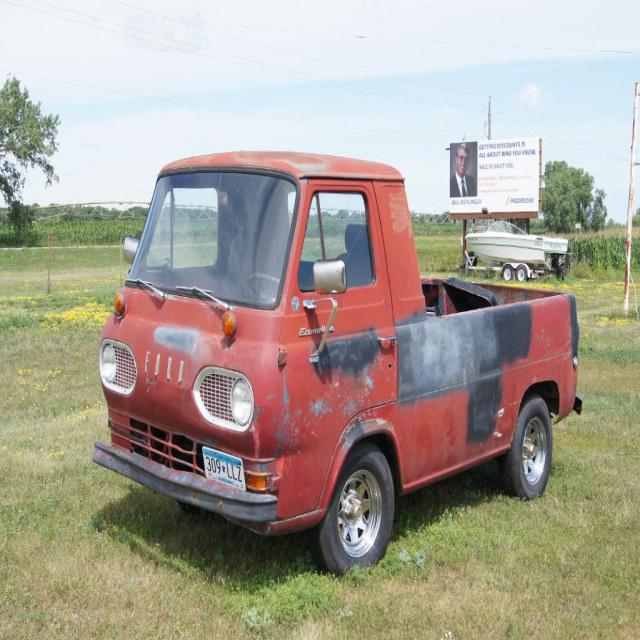Boat: (463, 219, 574, 269)
